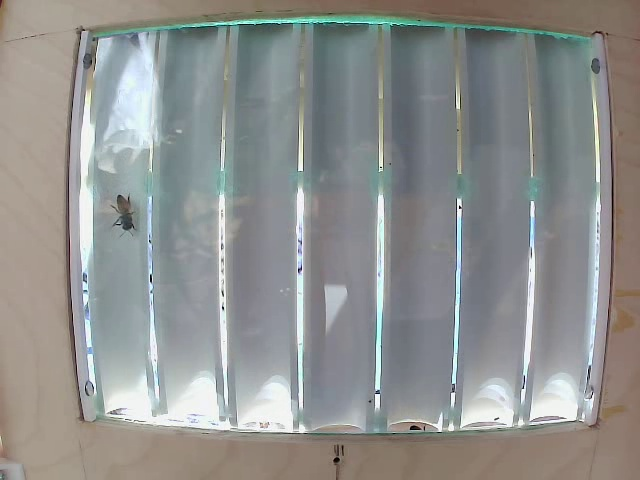bee: (111, 197, 156, 234)
